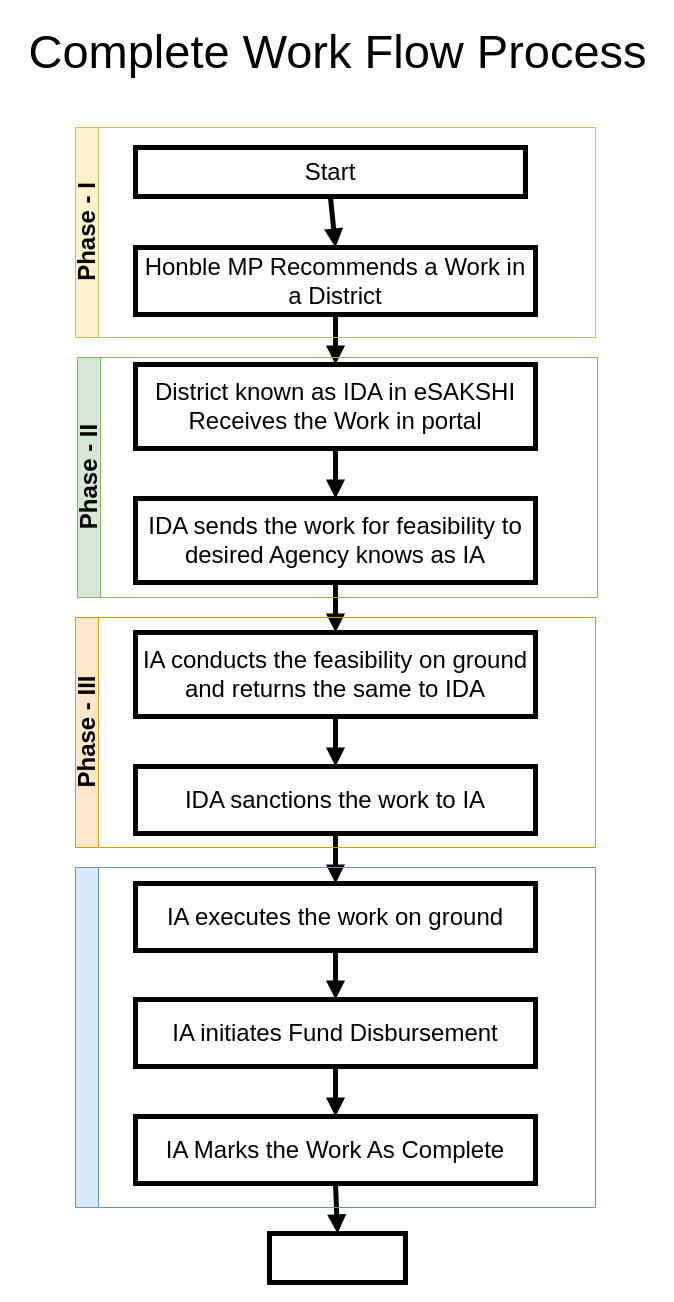
Image size: 674x1302. Some labels were removed from this diagram. The centre of each missing label's shape, as x and y in pixels:
"End" belongs at (x=337, y=1257).
"Phase - IV" belongs at (x=335, y=1037).
